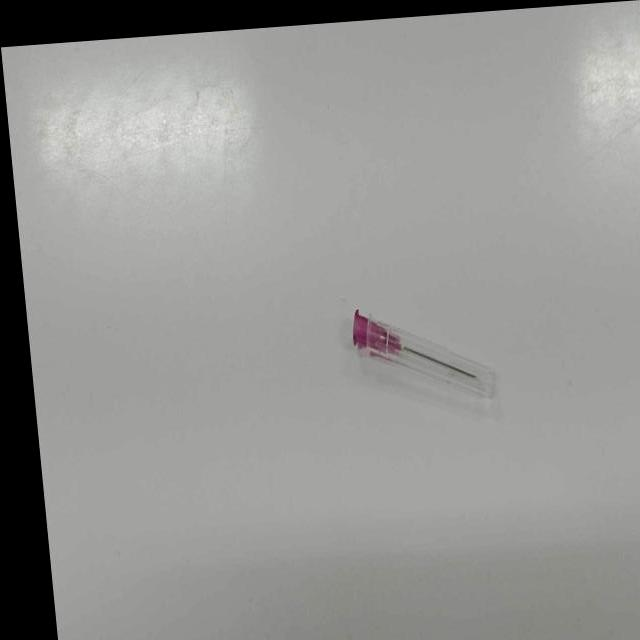General: (350, 308, 404, 359)
Pathological: (4, 2, 639, 637)
Sharps: (351, 307, 503, 412)
